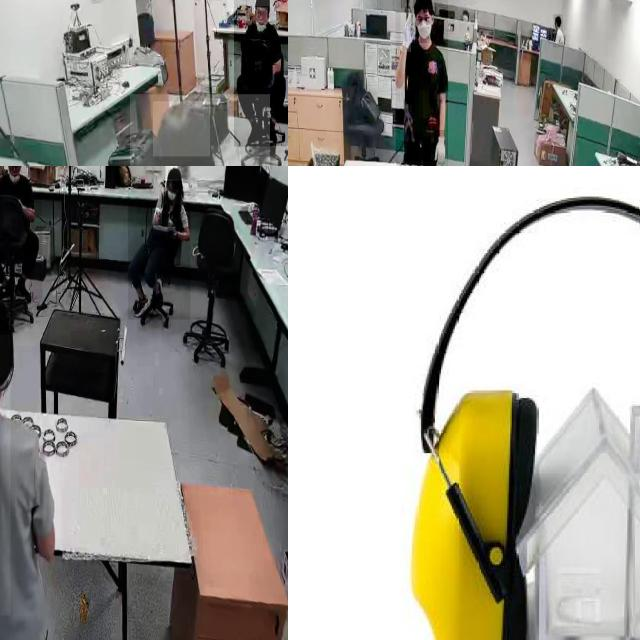Ear-protection: (405, 183, 640, 640)
face_mask: (417, 17, 433, 44), (165, 179, 178, 204), (9, 166, 21, 179)
face_nomask: (254, 7, 268, 25)
glasses: (414, 13, 432, 25), (7, 166, 21, 173)
hand_glove: (401, 8, 412, 53), (434, 130, 445, 166)
hand_noglove: (152, 208, 162, 225), (168, 226, 178, 242)
head_nohelmet: (153, 101, 211, 158), (0, 288, 12, 335), (166, 166, 182, 182), (413, 0, 432, 10), (254, 0, 269, 7), (554, 15, 561, 22)
person: (129, 94, 270, 166), (128, 166, 191, 320), (395, 0, 448, 166), (234, 0, 288, 146), (0, 166, 42, 299), (553, 14, 563, 48)
shoes: (263, 118, 283, 150), (244, 119, 262, 149), (152, 276, 166, 311), (132, 290, 148, 320), (14, 276, 32, 302)
